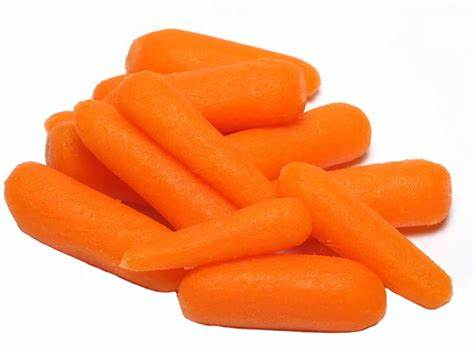Carrot: (273, 158, 456, 316), (5, 155, 190, 298), (107, 67, 277, 214), (69, 95, 242, 233), (176, 251, 388, 335), (115, 187, 311, 277), (126, 24, 324, 110), (215, 98, 375, 191), (143, 55, 308, 138), (317, 157, 452, 236)
